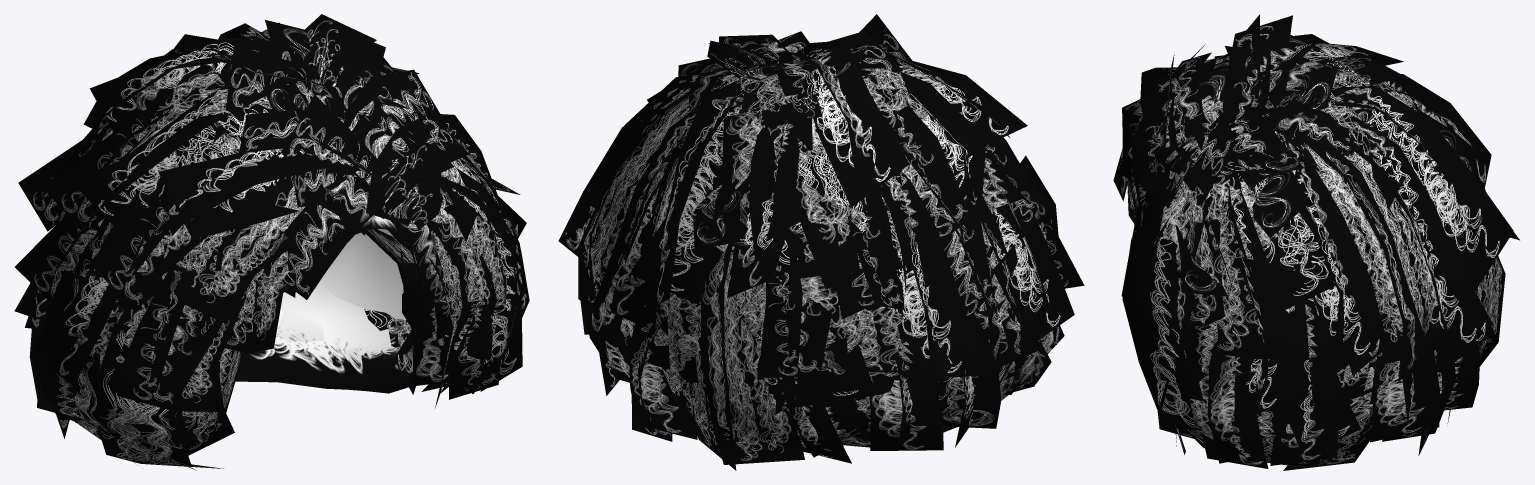
Rendered from hair_007.obj.
The picture shows the model from 3 angles, left to right: view 1: azimuth 30°, elevation 25°; view 2: azimuth 150°, elevation 25°; view 3: azimuth 270°, elevation 25°; orthographic projection. The views are drawn at different scales.
Parts seen in each view (by area): view 1: Hair_007_Mesh; view 2: Hair_007_Mesh; view 3: Hair_007_Mesh.
Part boxes in pixels (x1,y1,x2,y2): Hair_007_Mesh: (14, 14, 529, 470); Hair_007_Mesh: (558, 14, 1084, 470); Hair_007_Mesh: (1113, 14, 1519, 470).
Size of the model in its own units: 39.23 by 30.74 by 29.83.
3 materials, 3 textured.
